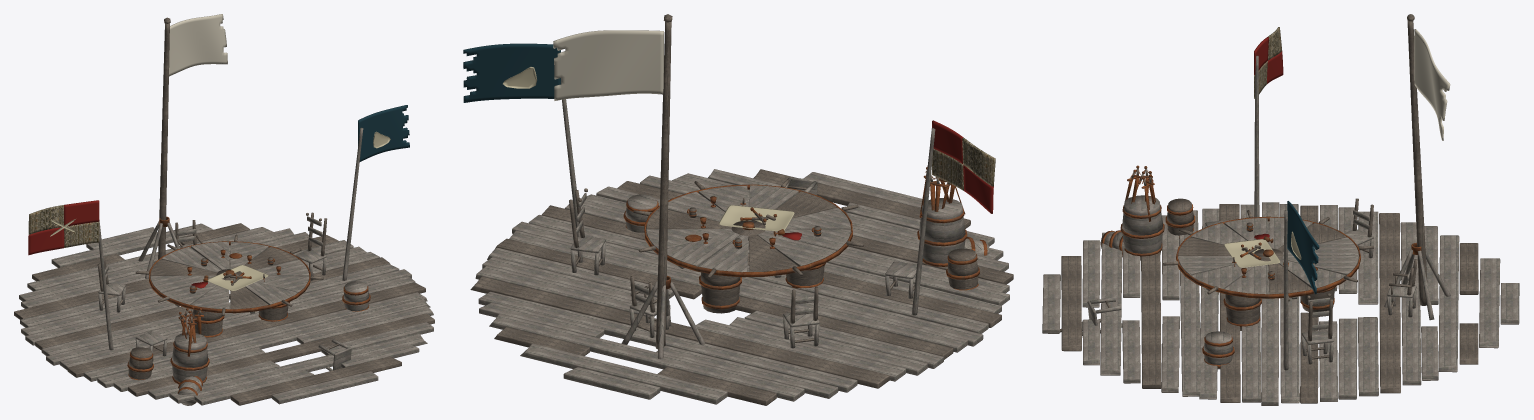
File: parley_table.glb
3 views of the same model, side by side, from view 1: azimuth 30°, elevation 25°; view 2: azimuth 150°, elevation 25°; view 3: azimuth 270°, elevation 25° (orthographic). The views are drawn at different scales.
Parts seen in each view (by area): view 1: parley_table; view 2: parley_table; view 3: parley_table.
Part boxes in pixels (x1,y1,x2,y2): parley_table: (14,14,434,405); parley_table: (463,14,1013,405); parley_table: (1042,14,1519,405).
Bounding box in the file's own units: 8.94 × 5.71 × 8.18.
6 materials, 6 textured.
